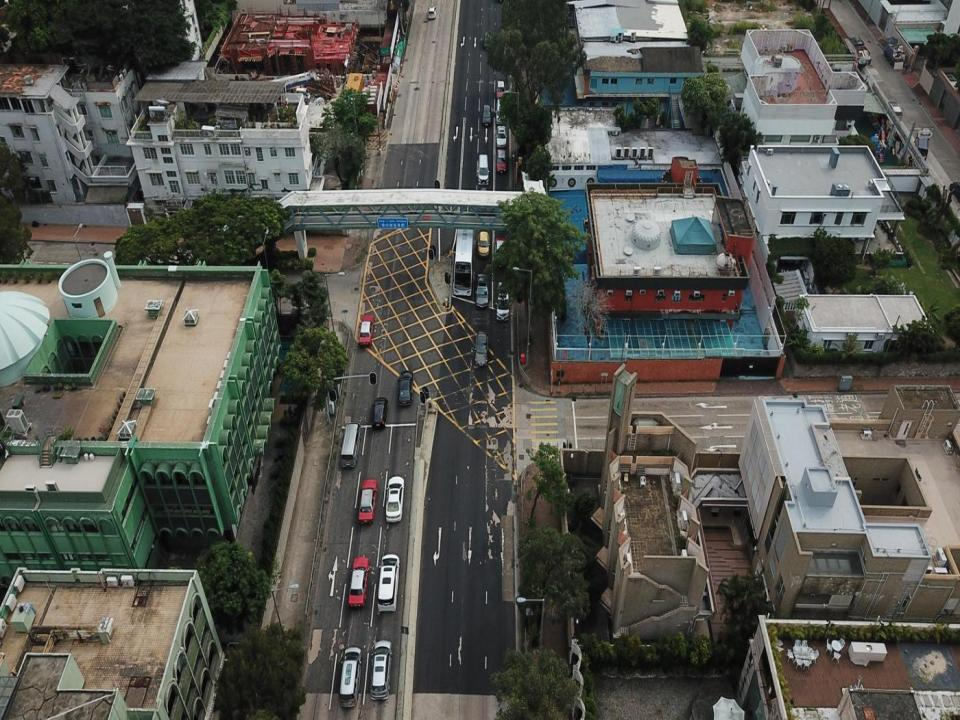bus: (454, 222, 473, 297)
car: (348, 557, 368, 606), (386, 478, 404, 523), (358, 480, 376, 524), (472, 330, 488, 364), (397, 371, 413, 403), (372, 396, 388, 428), (360, 314, 374, 344), (476, 273, 488, 307), (493, 239, 507, 266), (478, 232, 490, 257), (497, 148, 507, 172), (496, 127, 507, 148), (482, 104, 491, 127), (496, 80, 505, 99)
van: (339, 648, 361, 710), (377, 553, 399, 611), (371, 640, 392, 700), (341, 421, 362, 466), (496, 281, 509, 319), (478, 154, 490, 184), (888, 102, 902, 122), (496, 100, 505, 126), (427, 6, 437, 18)
